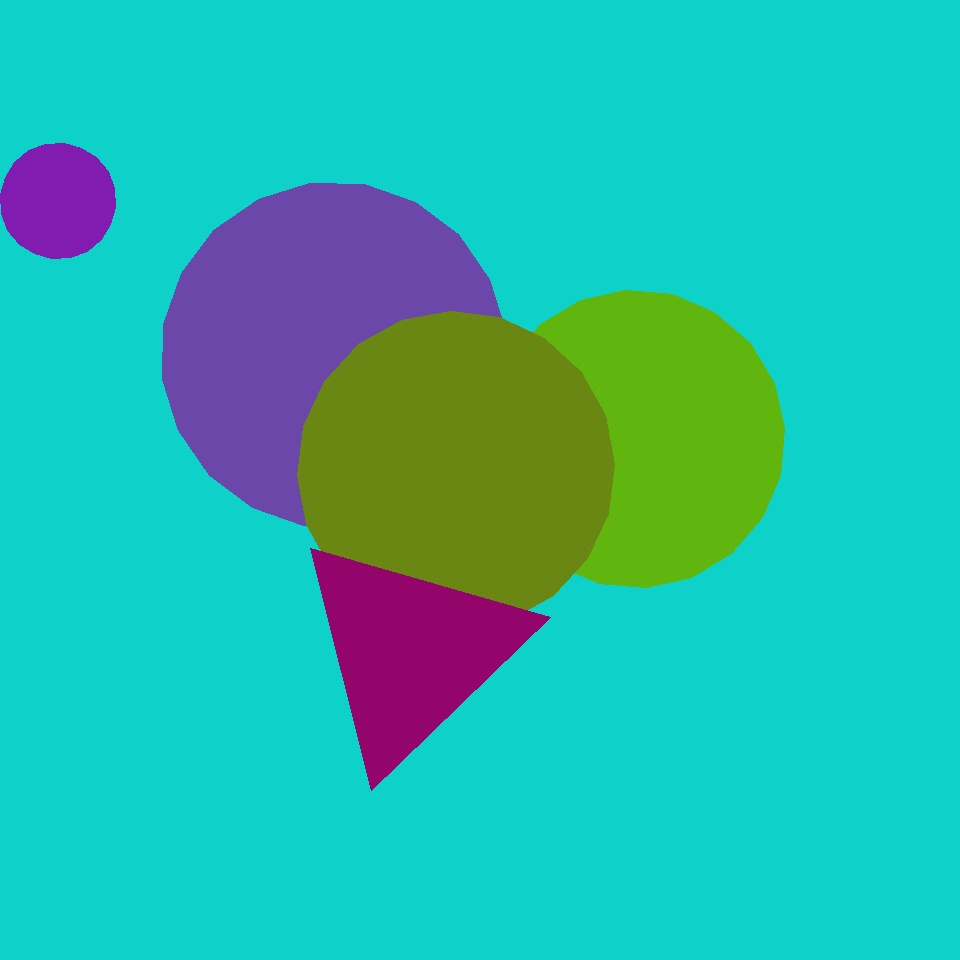circle: (291, 531, 531, 773)
square: (356, 300, 711, 656), (59, 279, 352, 573), (581, 652, 794, 865)
triangle: (162, 184, 506, 526), (298, 312, 614, 628), (488, 290, 784, 588), (430, 728, 614, 912), (809, 18, 938, 147), (0, 144, 116, 258)
